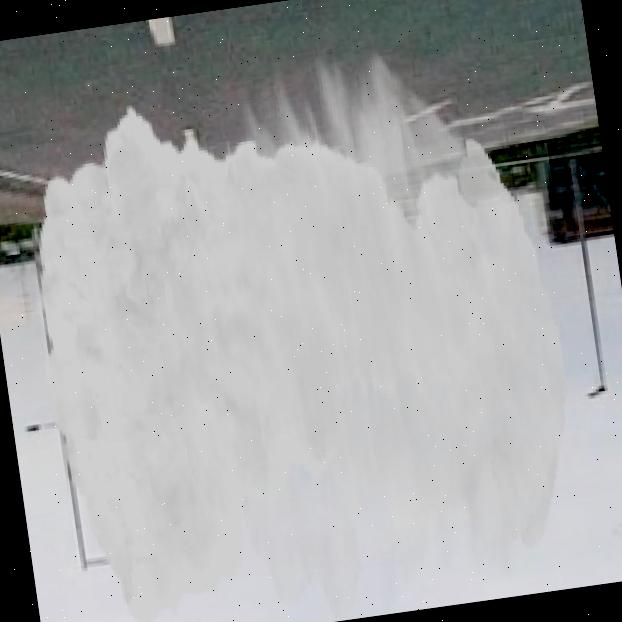smoke: (5, 28, 595, 622)
